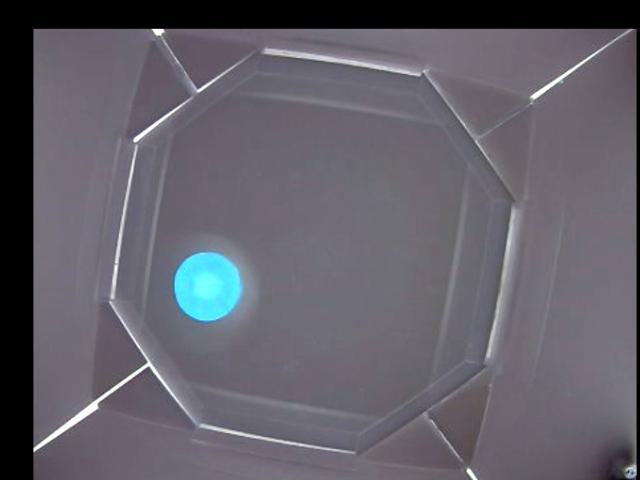Carrot: (173, 253, 241, 320)
